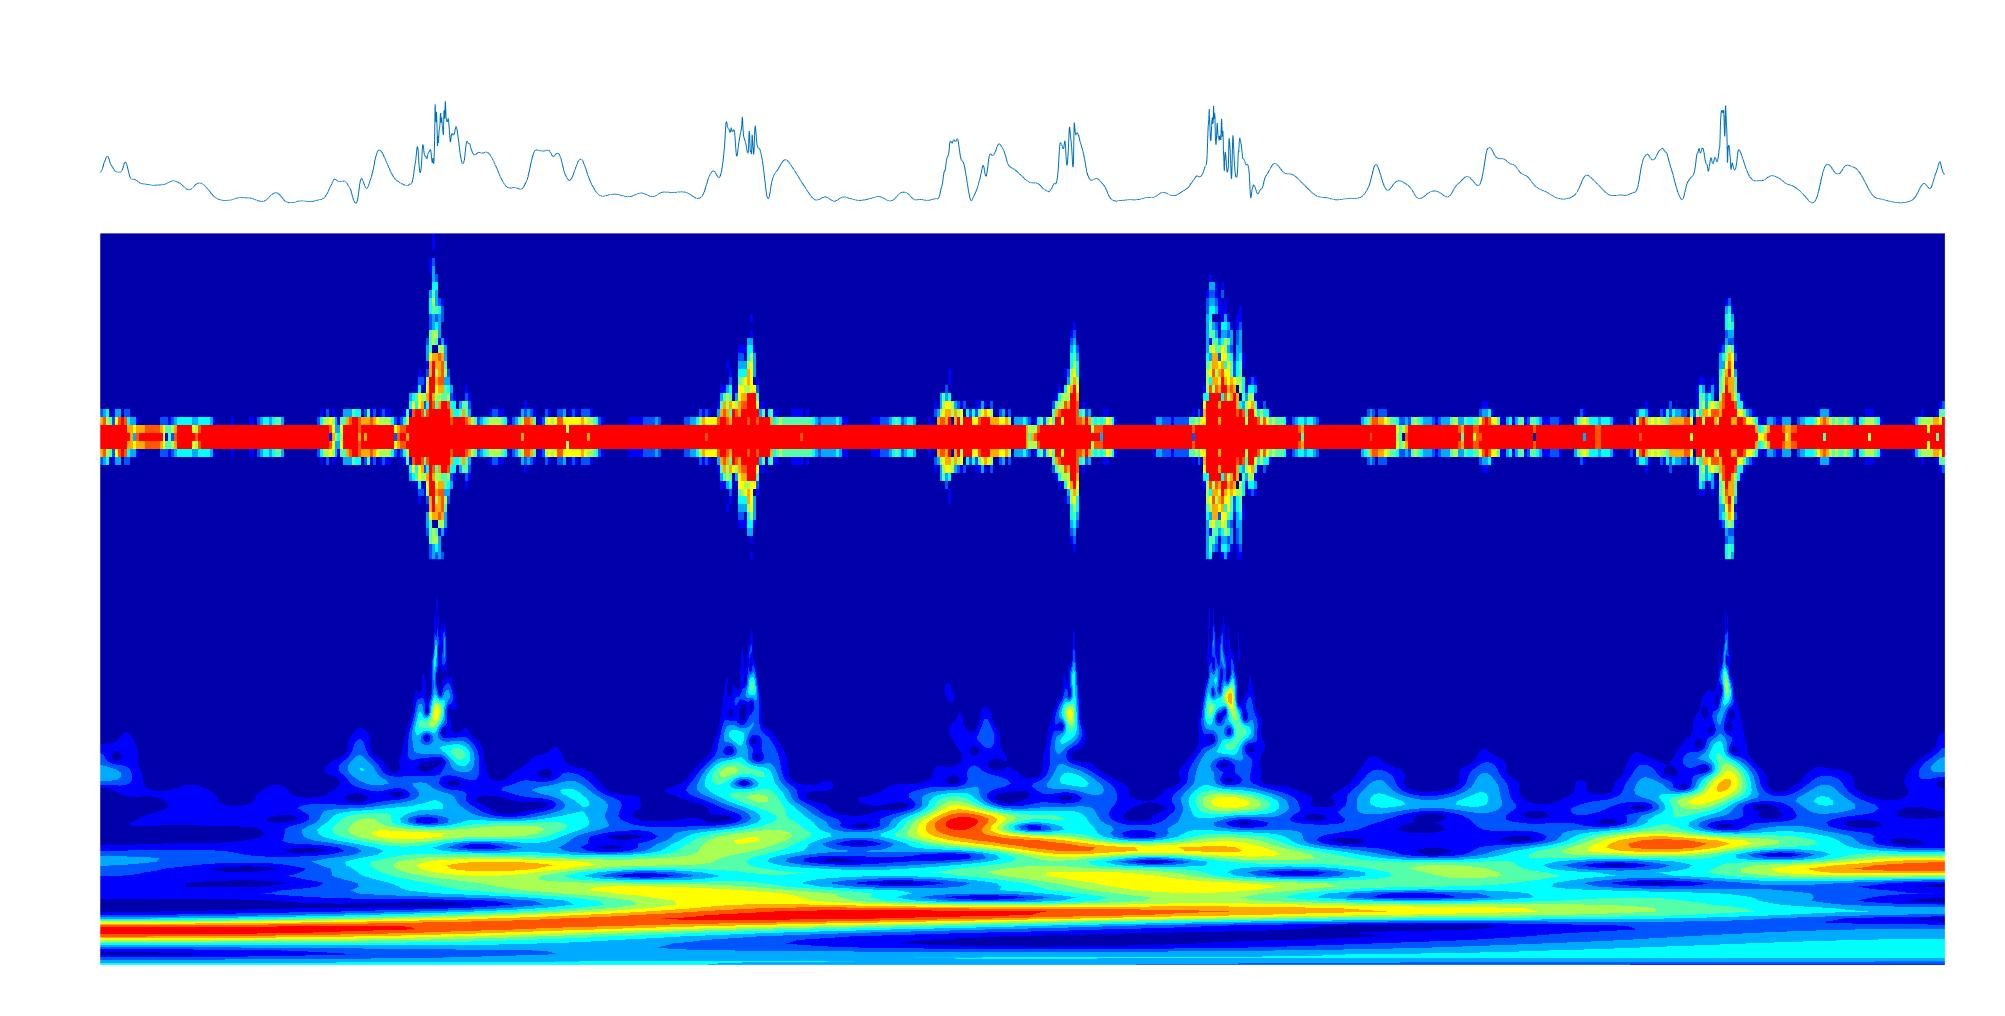TURBULENT: (1201, 233, 1249, 965), (1698, 232, 1742, 964), (721, 236, 762, 963), (409, 233, 446, 963)
